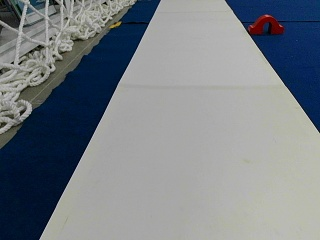bridge: (250, 15, 283, 35)
